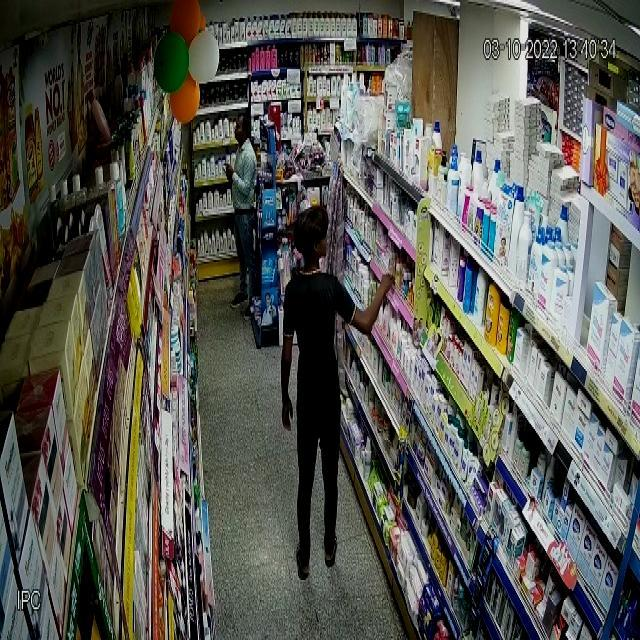Normal: (252, 156, 433, 600)
